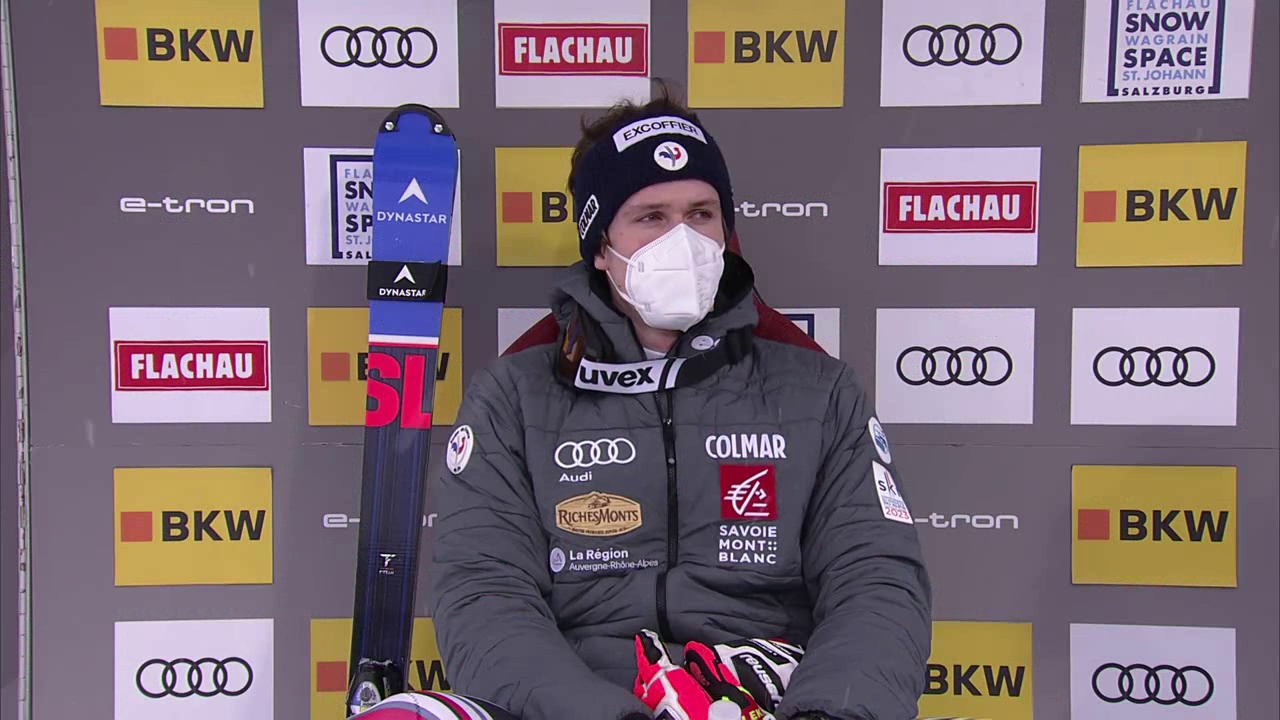BKW: (1082, 164, 1239, 241), (116, 481, 263, 563), (1082, 485, 1218, 559), (690, 17, 839, 84)
audi: (318, 25, 441, 76), (1091, 661, 1213, 712), (902, 23, 1024, 73), (136, 655, 255, 704), (1094, 346, 1218, 393), (893, 347, 1013, 393), (552, 436, 638, 480)
etron: (114, 194, 262, 221), (886, 509, 1026, 535), (718, 196, 831, 225)
flachau: (121, 338, 263, 396), (505, 22, 640, 81), (888, 182, 1027, 236)
